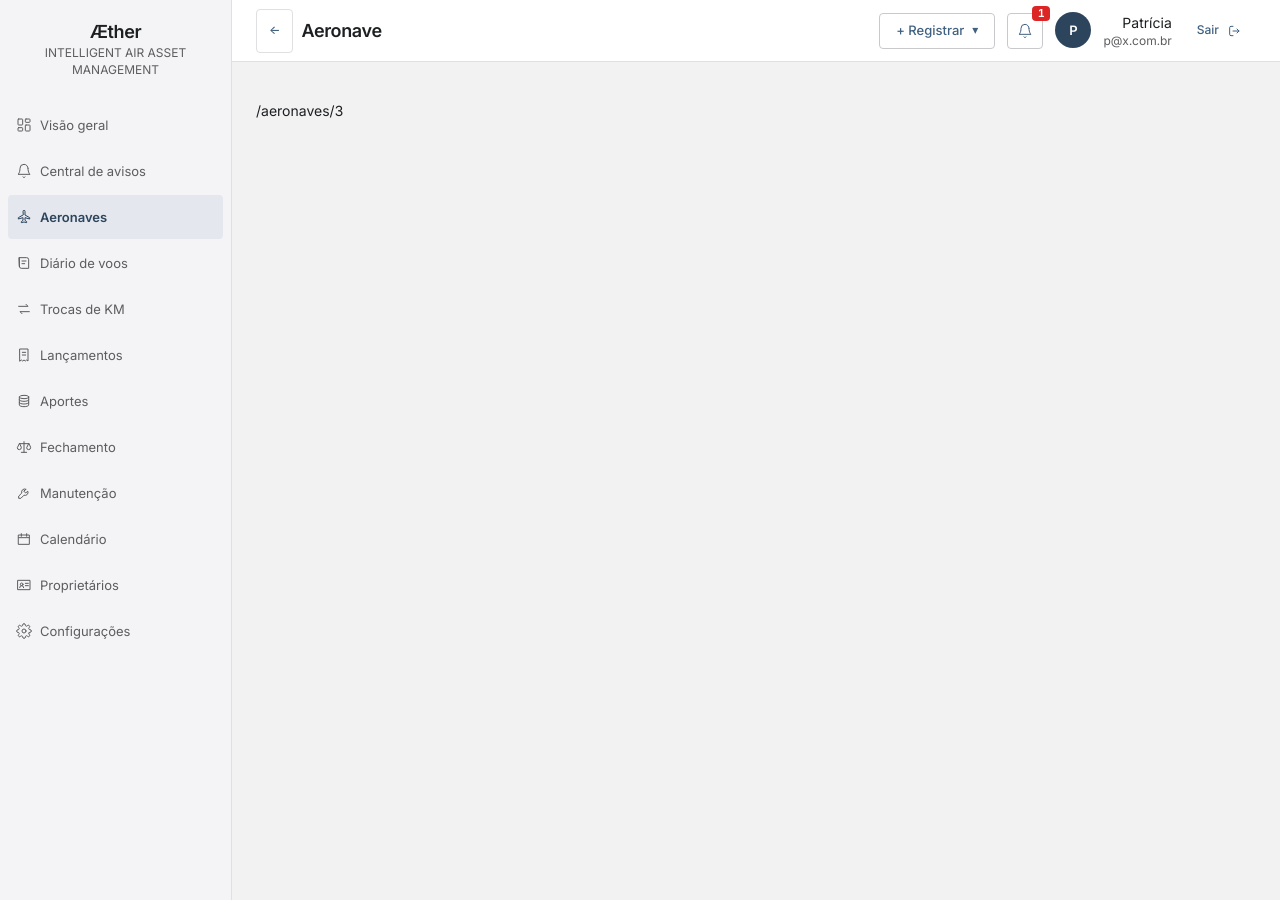
LayoutDaAplicacao › o "+ Registrar" leva ao formulário da tela dona, já na aeronave aberta
Click the button "+ Registrar ▾" at (937, 30), box [879,12,995,48]
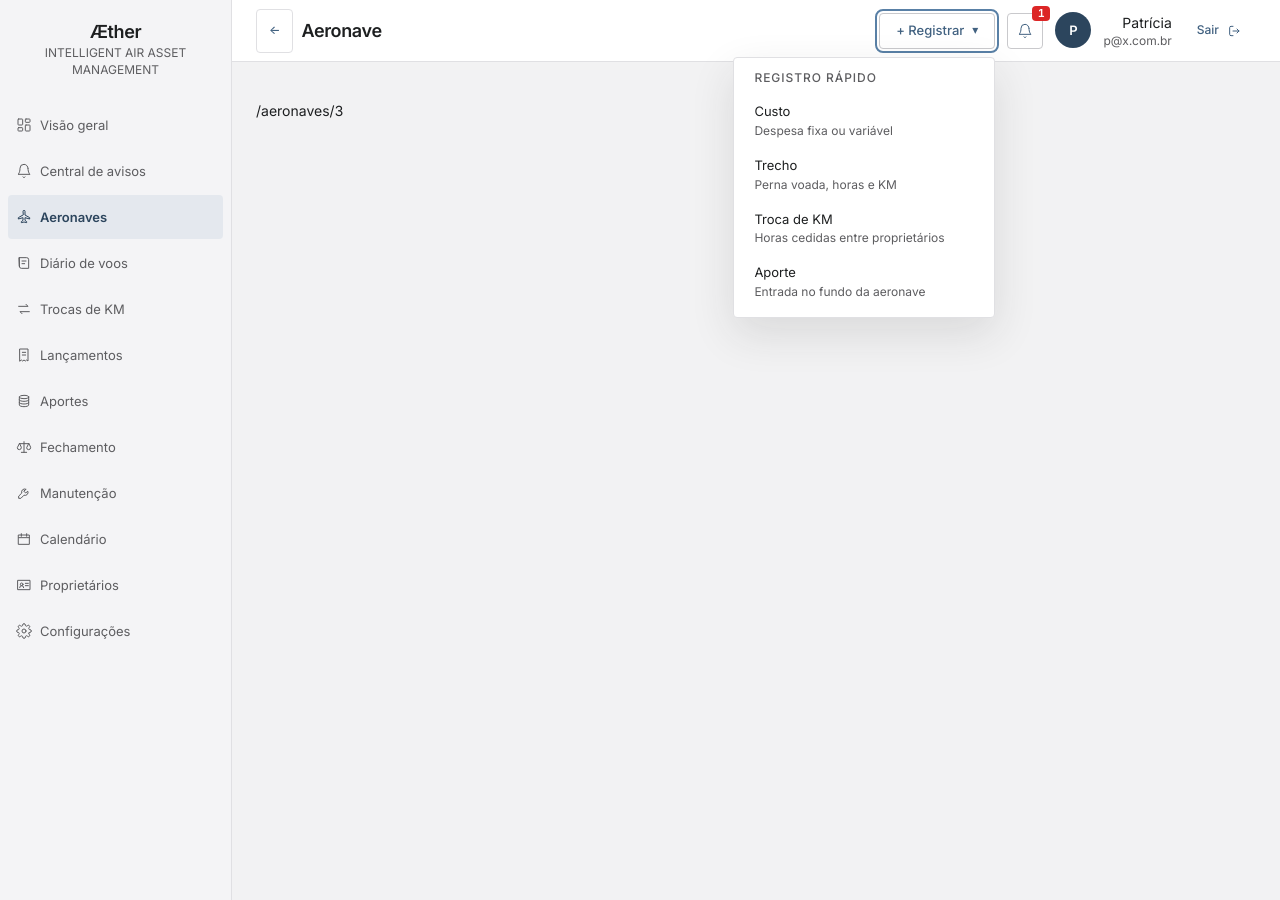
Click the button "Custo Despesa fixa ou variável" at (864, 121), box [742,94,986,148]
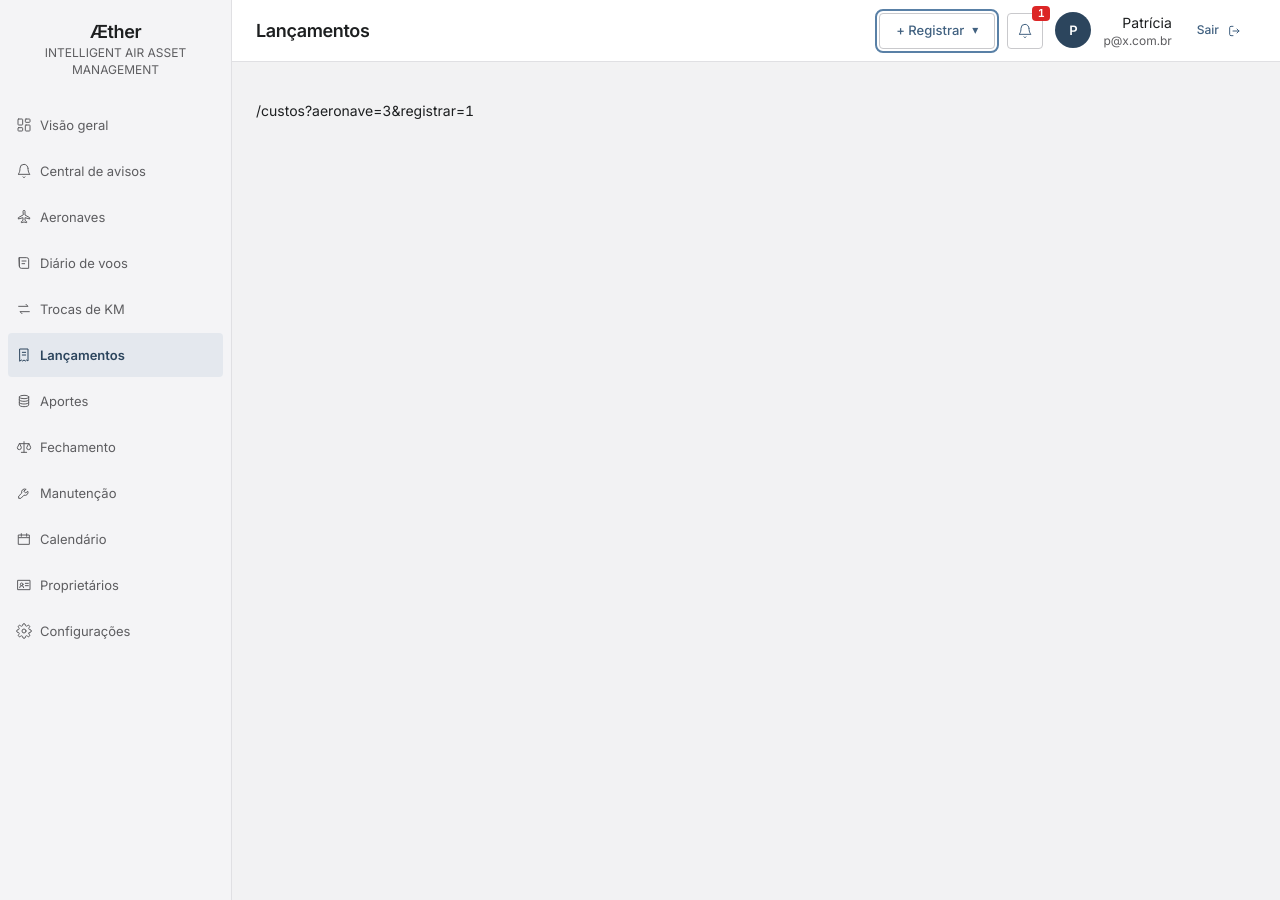
Check: the text with test id "endereco" reads "/custos?aeronave=3&registrar=1", box [256,102,474,119]
